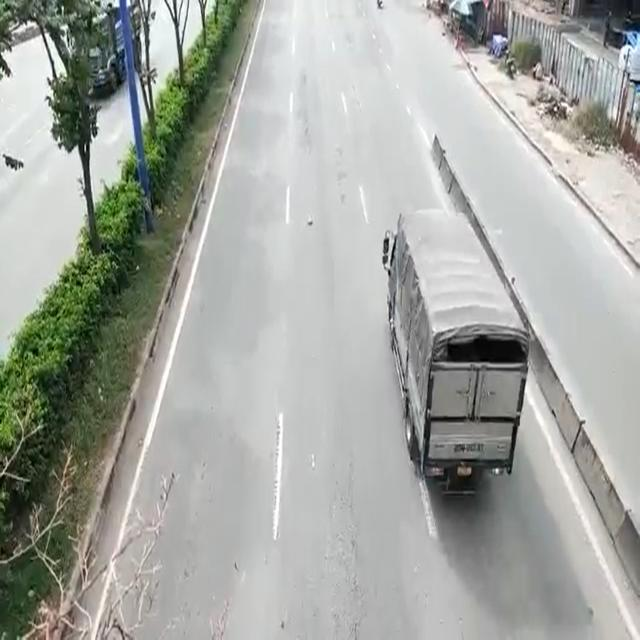truck: (381, 200, 528, 496)
